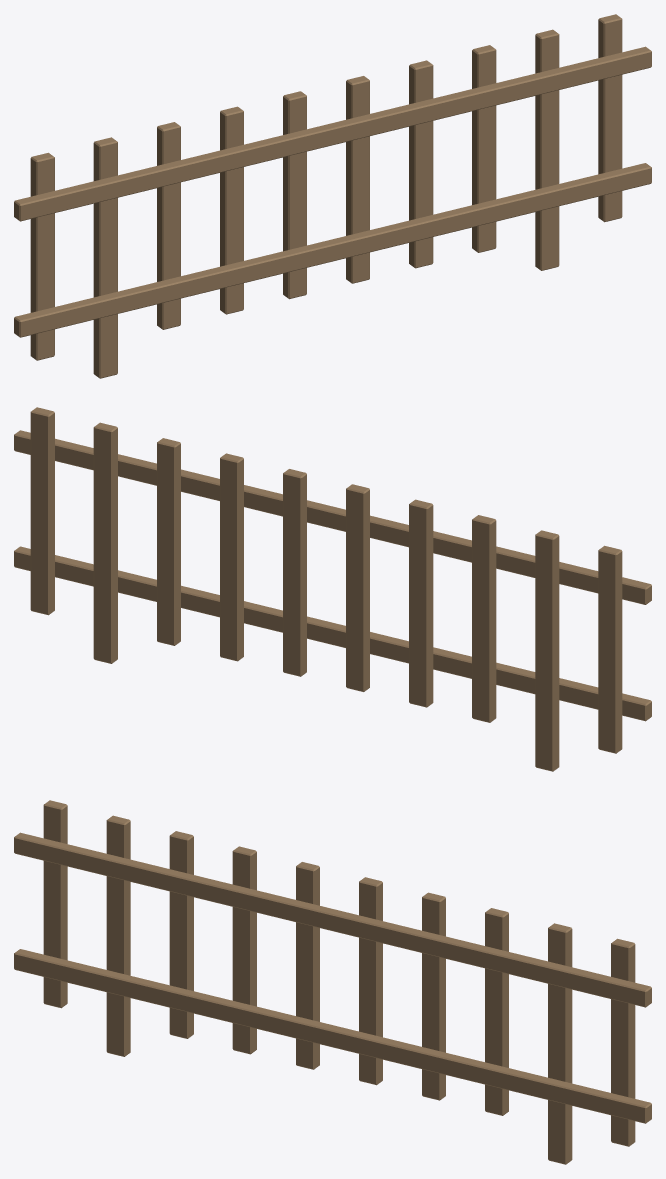
Rendered from Garden_Hedge_Low.FBX.
3 views of the same model, one above another, from view 1: azimuth 30°, elevation 25°; view 2: azimuth 150°, elevation 25°; view 3: azimuth 330°, elevation 25° (orthographic).
Visible parts, largest first — view 1: Garden_Hedge_Low; view 2: Garden_Hedge_Low; view 3: Garden_Hedge_Low.
Part boxes in pixels (x1,y1,x2,y2): Garden_Hedge_Low: (14,14,651,378); Garden_Hedge_Low: (14,407,651,771); Garden_Hedge_Low: (14,800,651,1164).
Size of the model in its own units: 78.13 by 27.56 by 2.76.
